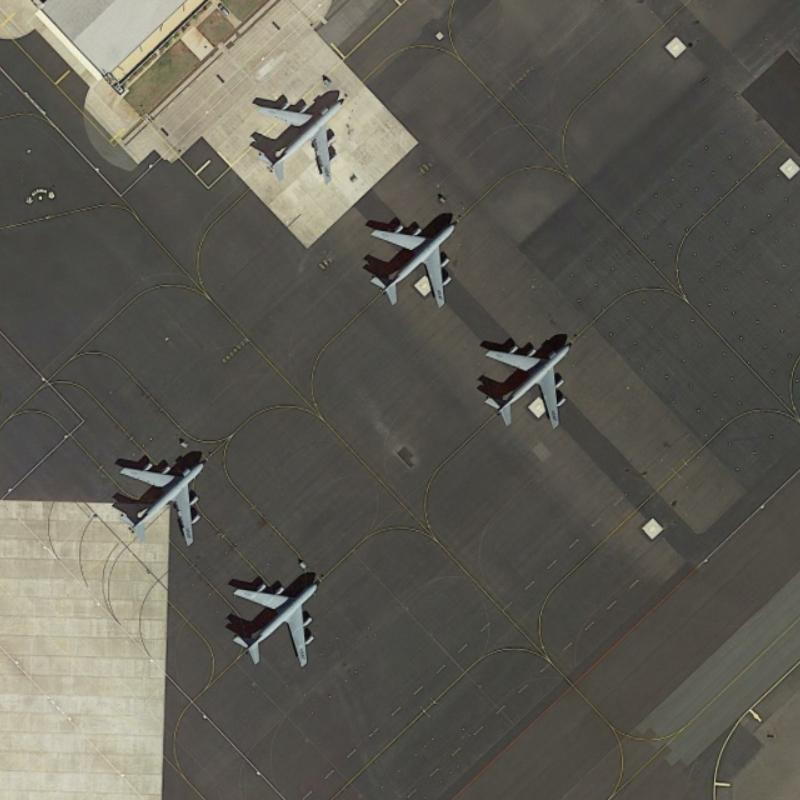A14: (365, 216, 463, 310), (225, 574, 323, 668), (251, 92, 347, 187), (479, 337, 574, 433), (115, 456, 210, 549)
